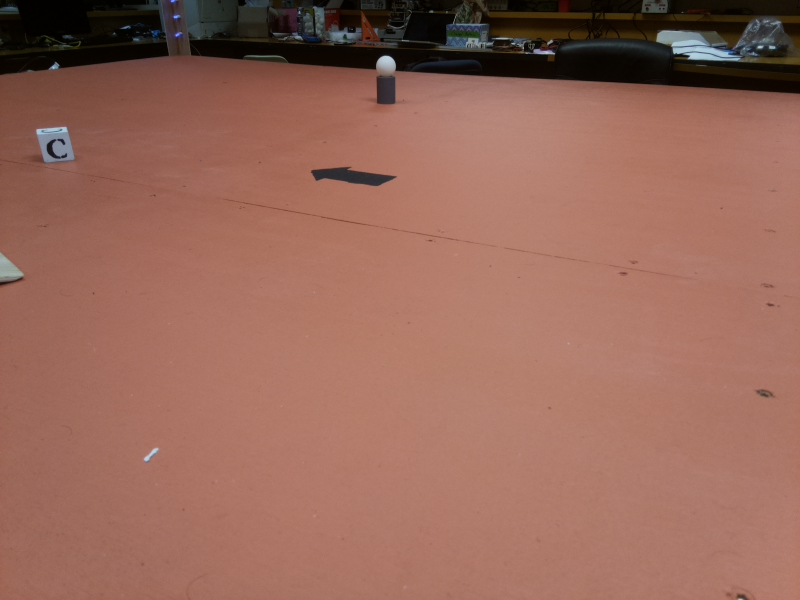blockC: (37, 125, 79, 165)
obstacle: (374, 58, 399, 105)
slope: (1, 257, 30, 281)
start: (310, 163, 400, 190)
